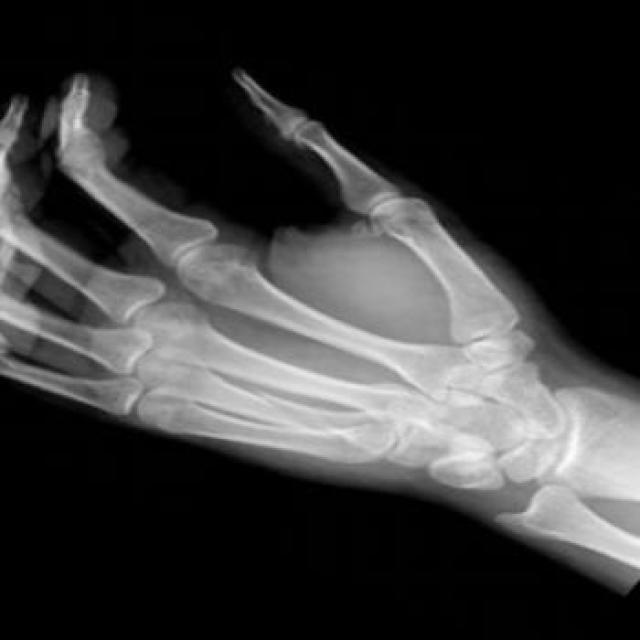Fracture: (254, 391, 316, 428)
